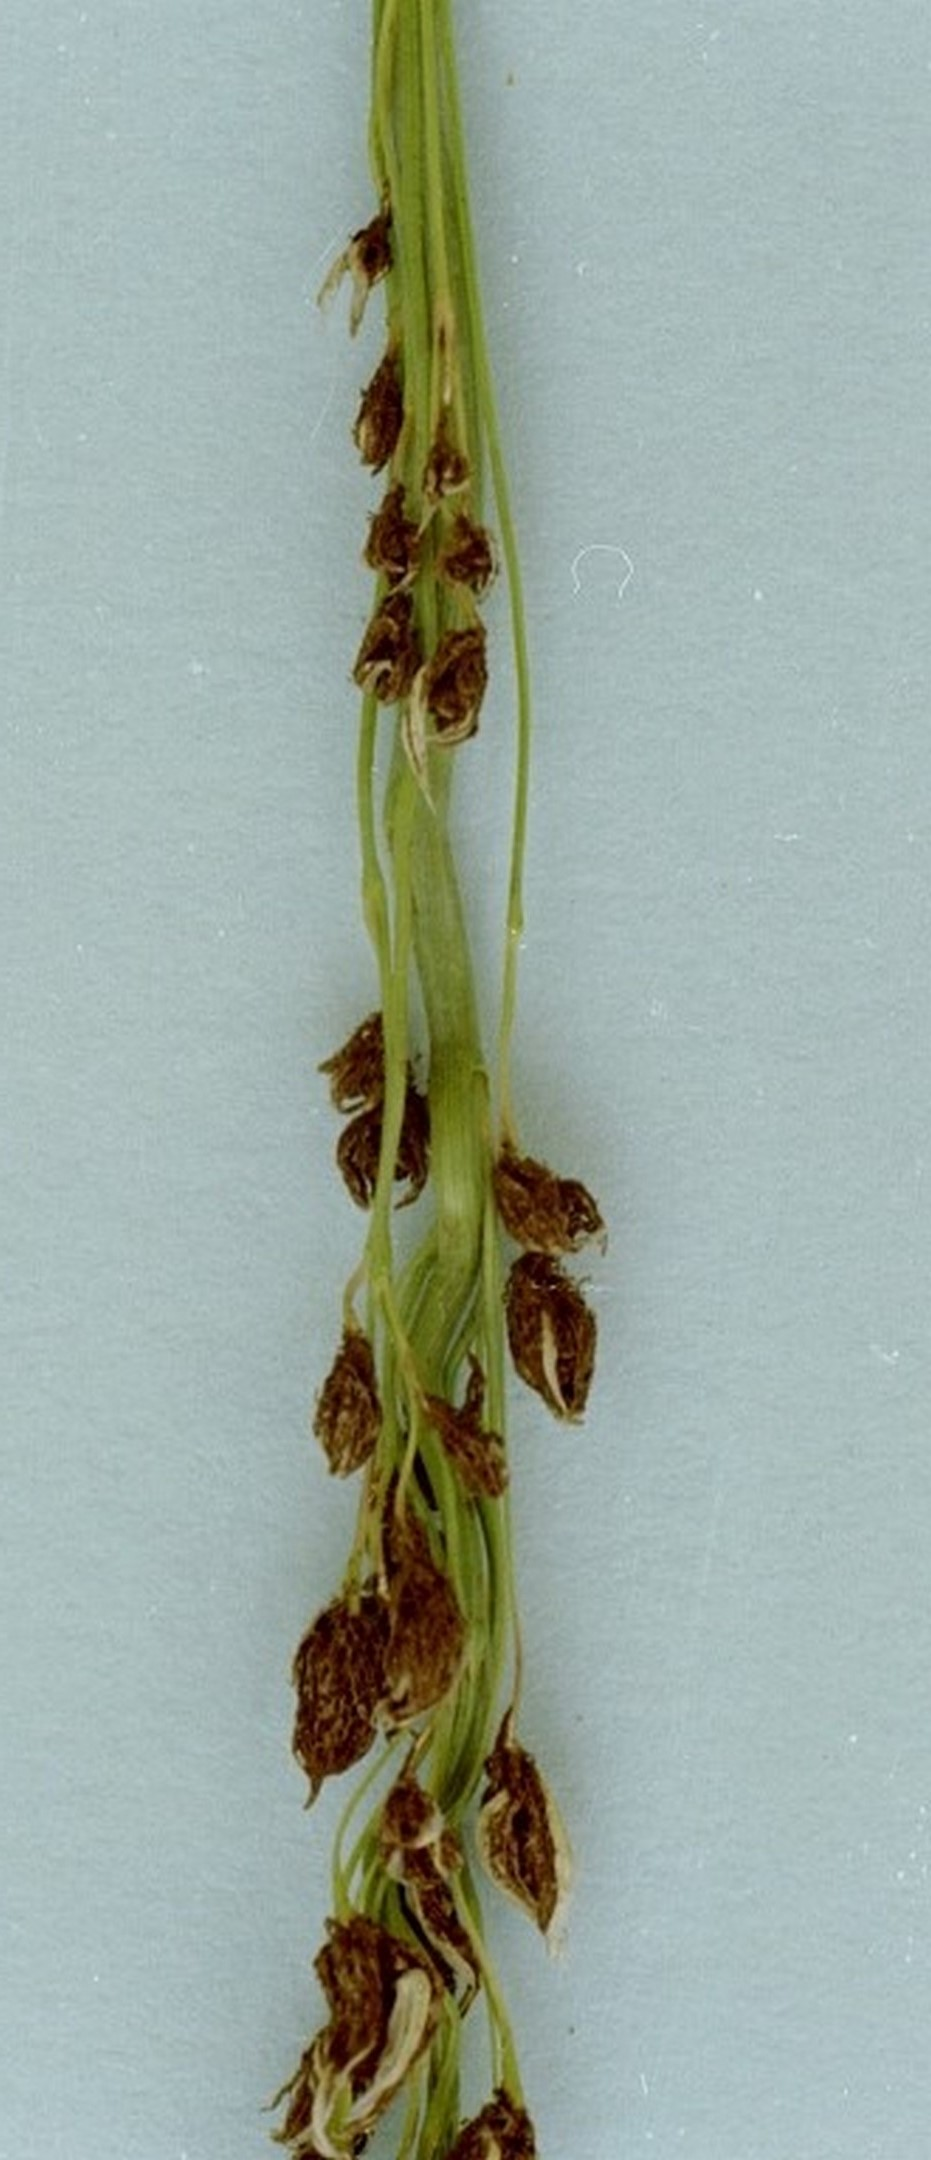Wheat Loose Smut: (213, 238, 629, 2149)
